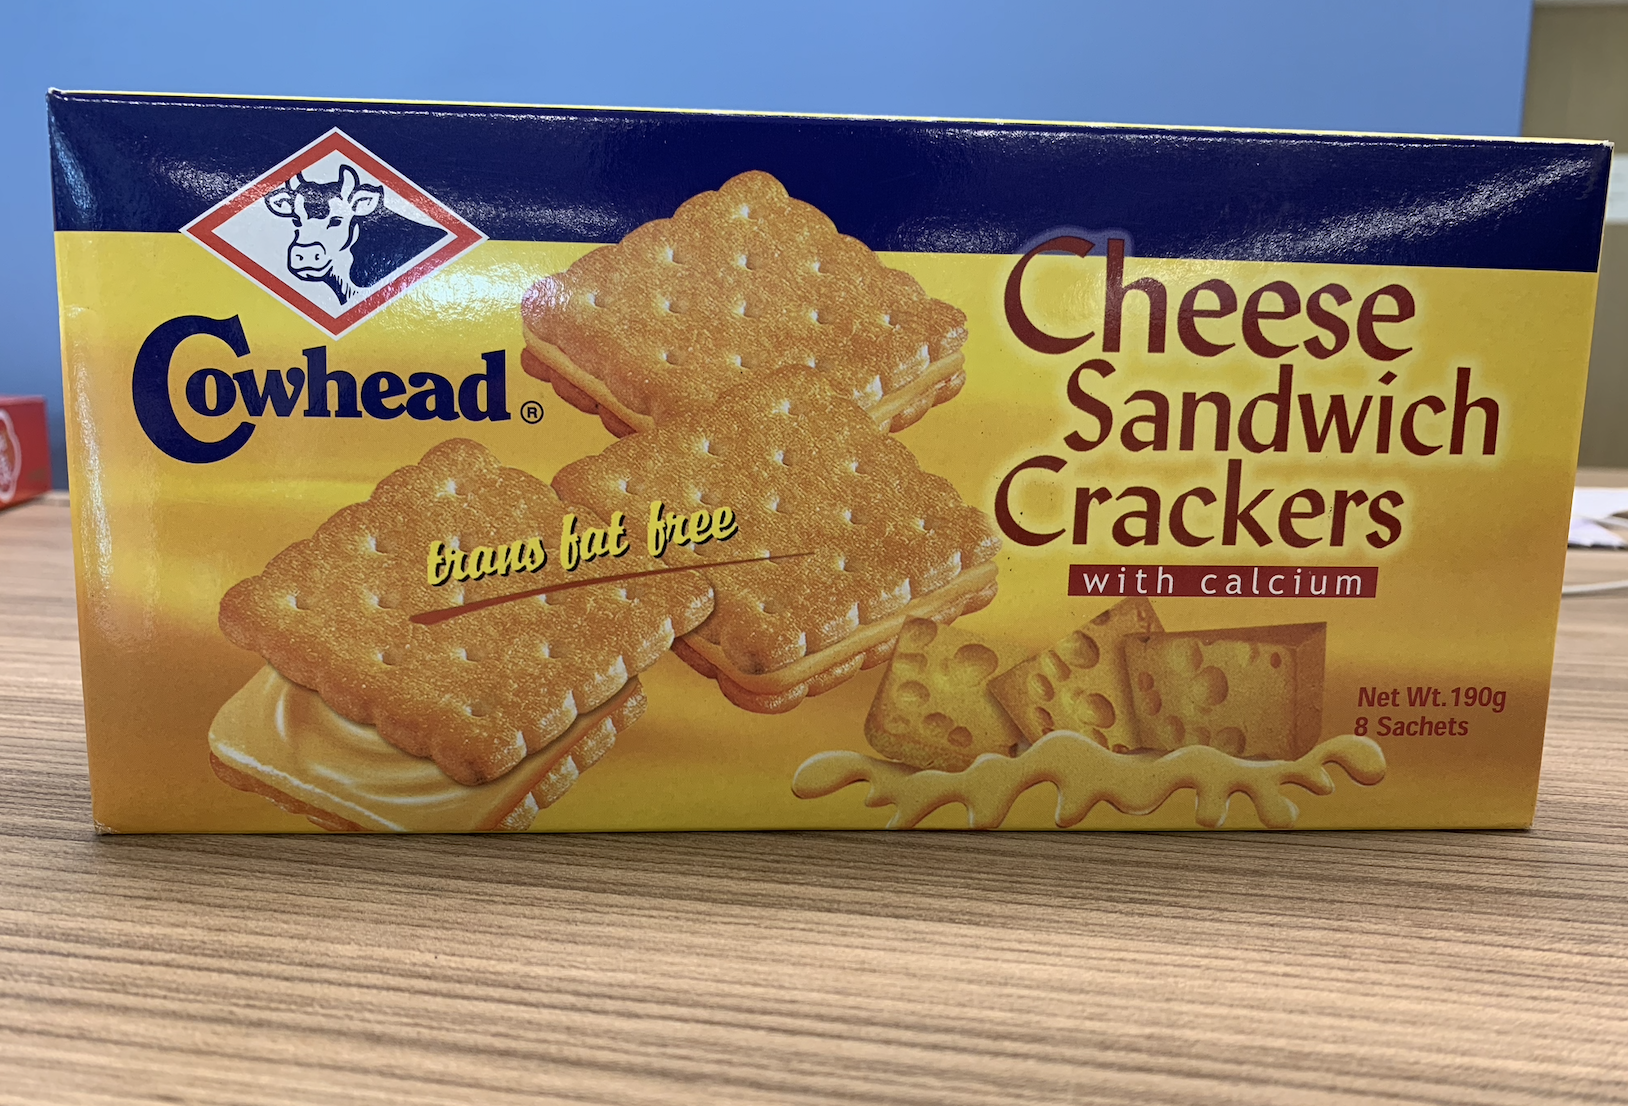crackers_100g-199g: (127, 137, 1529, 797)
